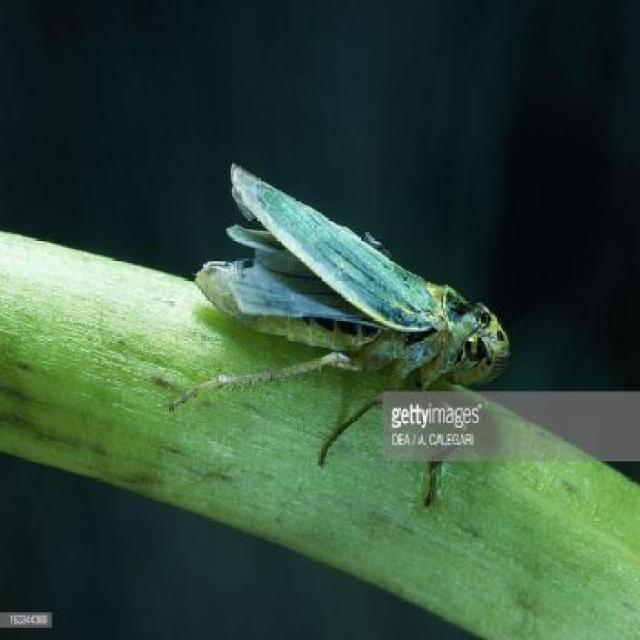green-leafhopper: (187, 165, 514, 391)
